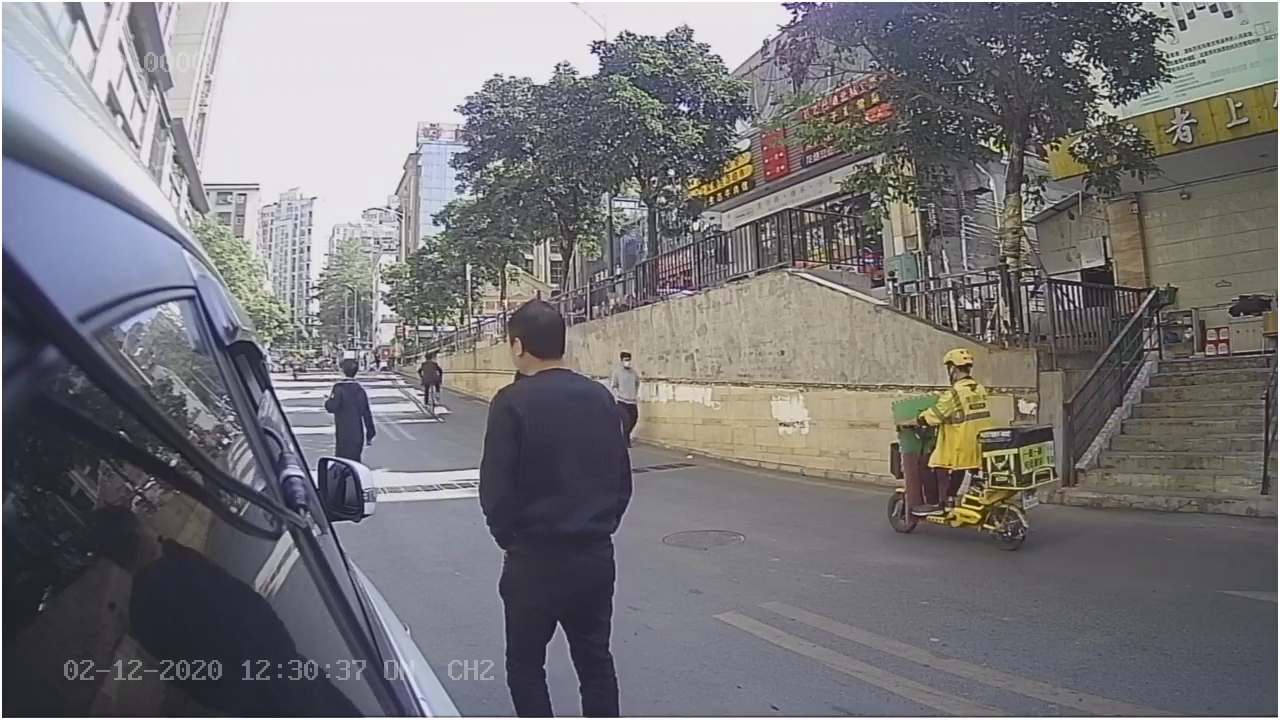person: (483, 293, 628, 459)
